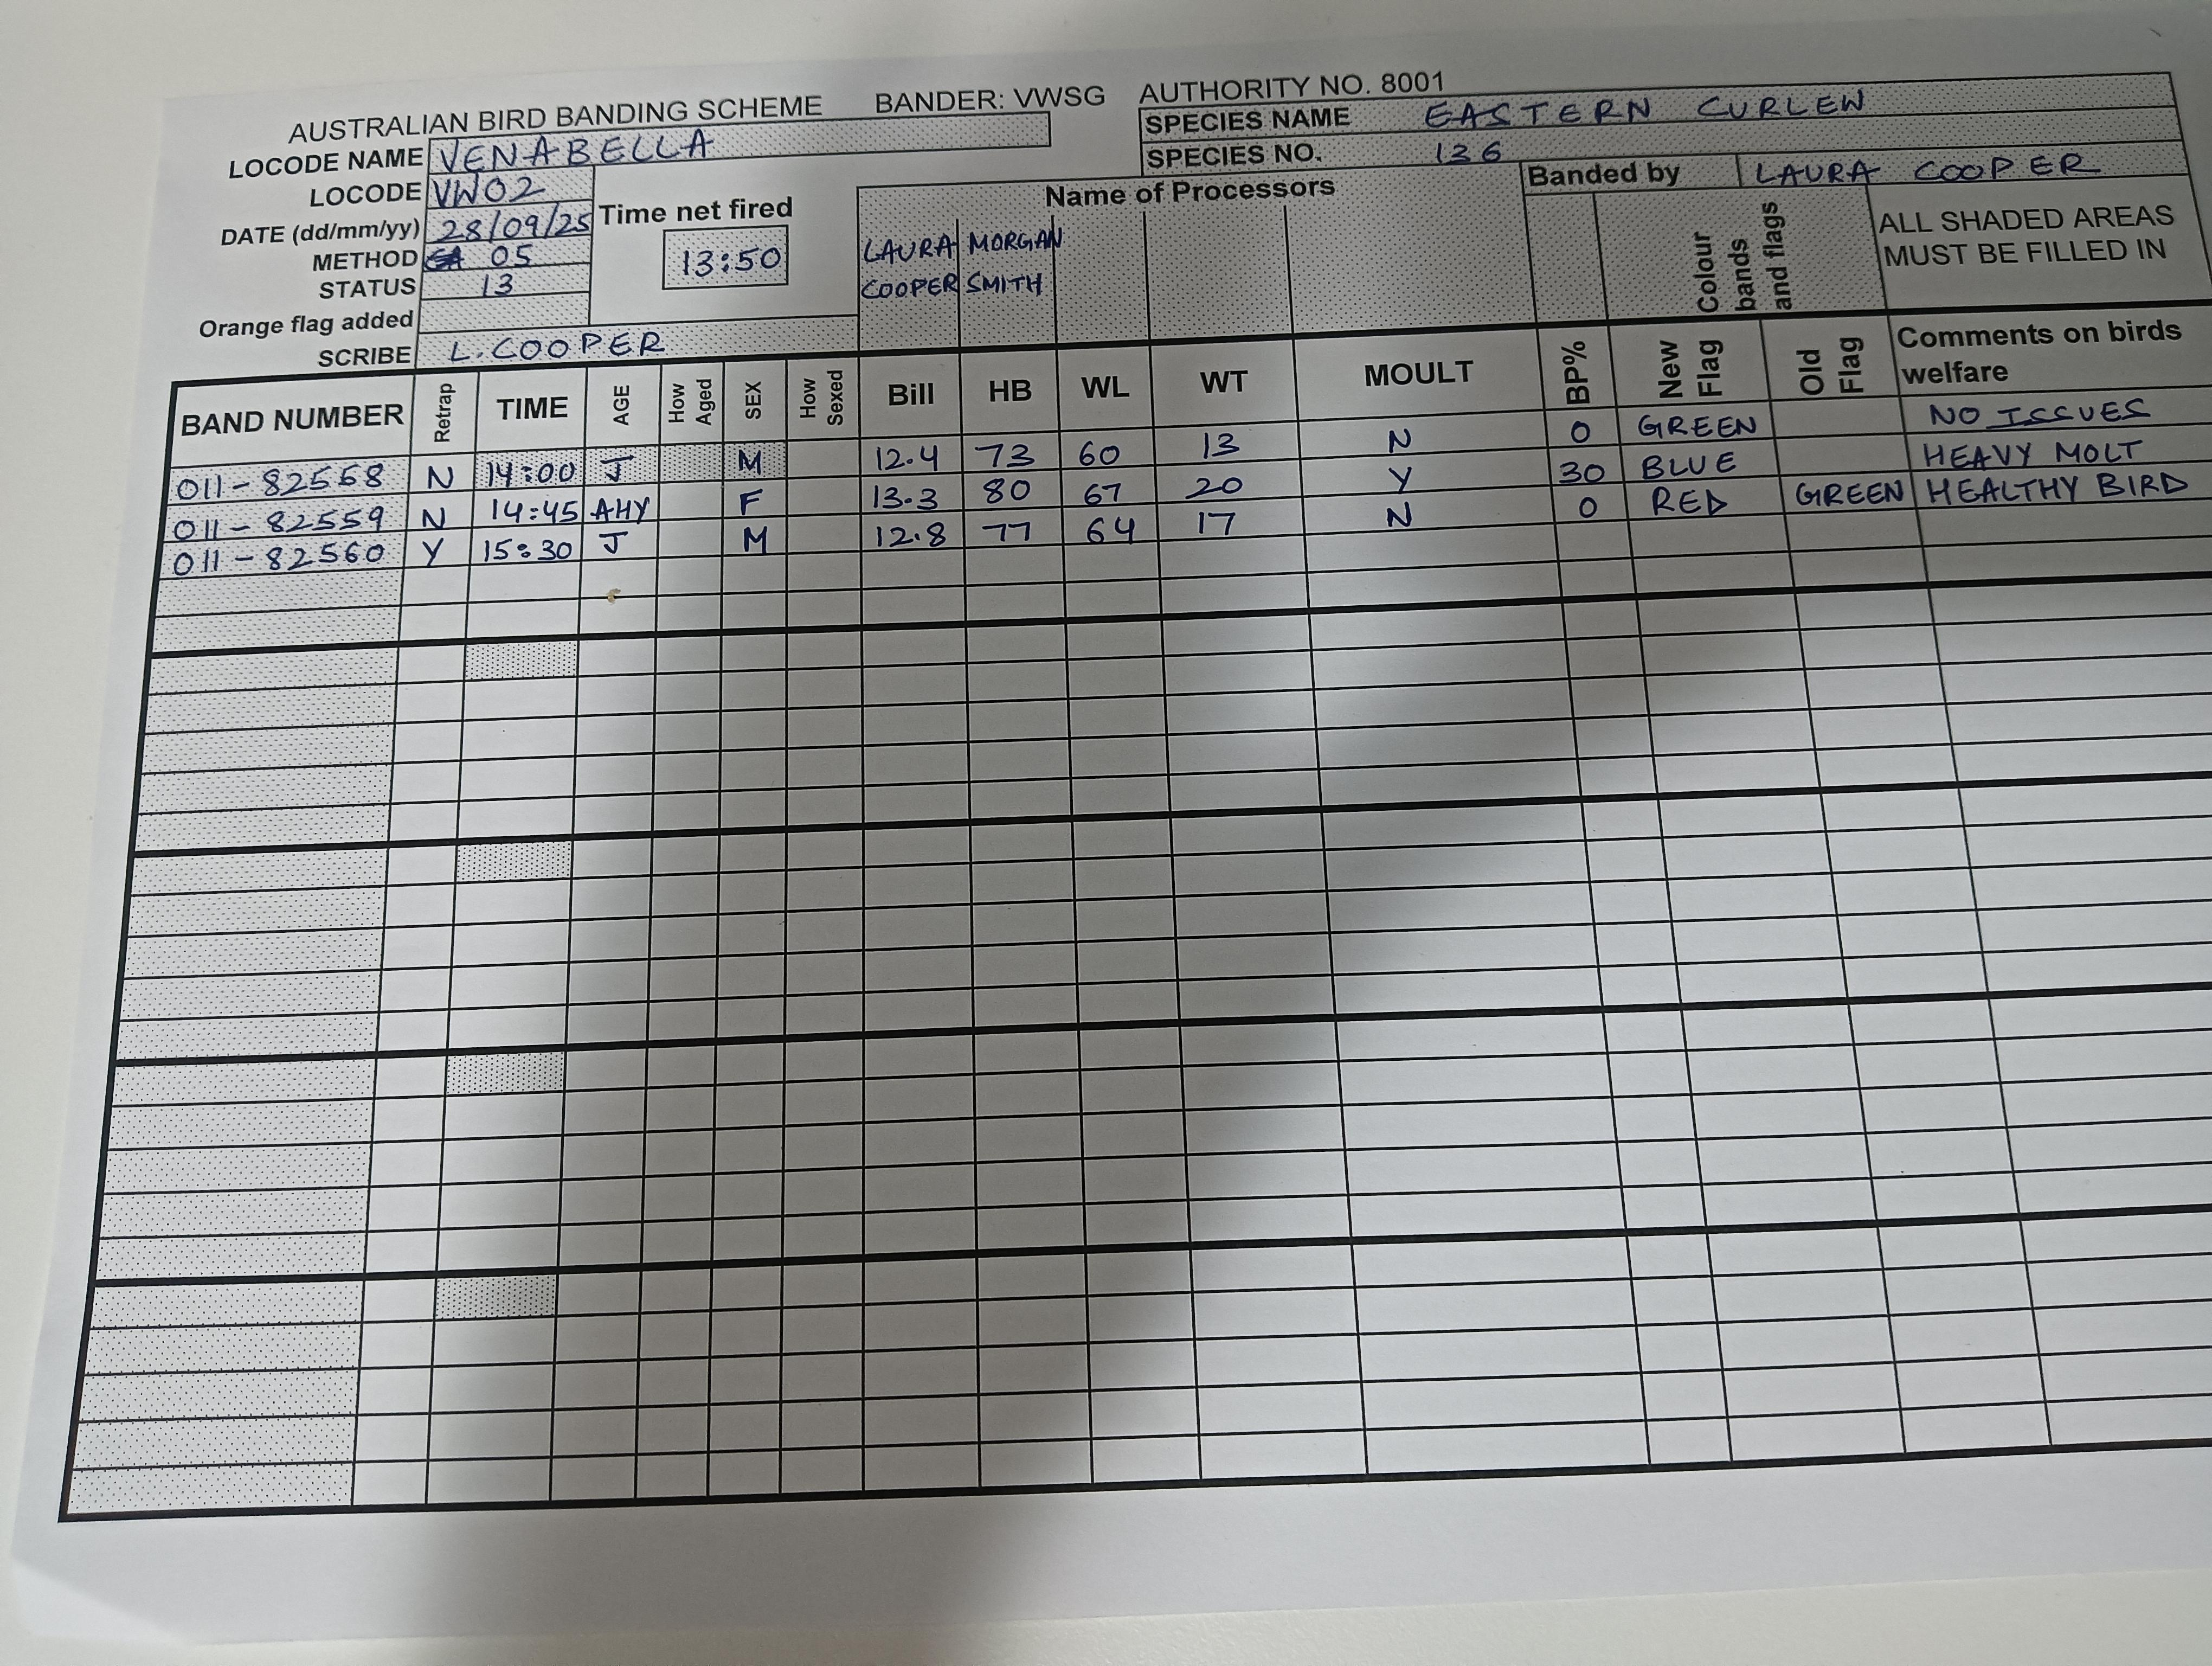BANDED_BY: (1523, 138, 2189, 196)
DATA: (168, 389, 2210, 509), (168, 425, 2205, 546), (159, 460, 2212, 579)
DATE: (217, 201, 605, 257)
LOCOCODE: (276, 164, 607, 214)
LOCOCODE_NAME: (222, 110, 1053, 192)
METHOD: (296, 231, 598, 282)
NAME_OF_PROCESSORS: (859, 208, 965, 355), (963, 203, 1068, 348)
ORANGE_FLAG_ADDED: (187, 291, 593, 348)
SCRIBE: (299, 311, 866, 376)
SPECIES_NAME: (1135, 72, 2174, 140)
SPECIES_NO: (1138, 100, 2188, 175)
STATUS: (290, 264, 595, 308)
TIME_NET_FIRED: (593, 180, 811, 303)
